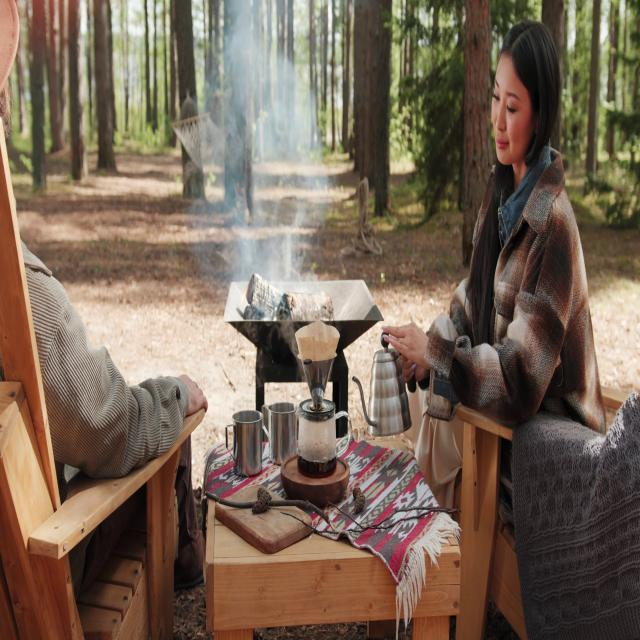Smoke: (180, 2, 326, 298)
